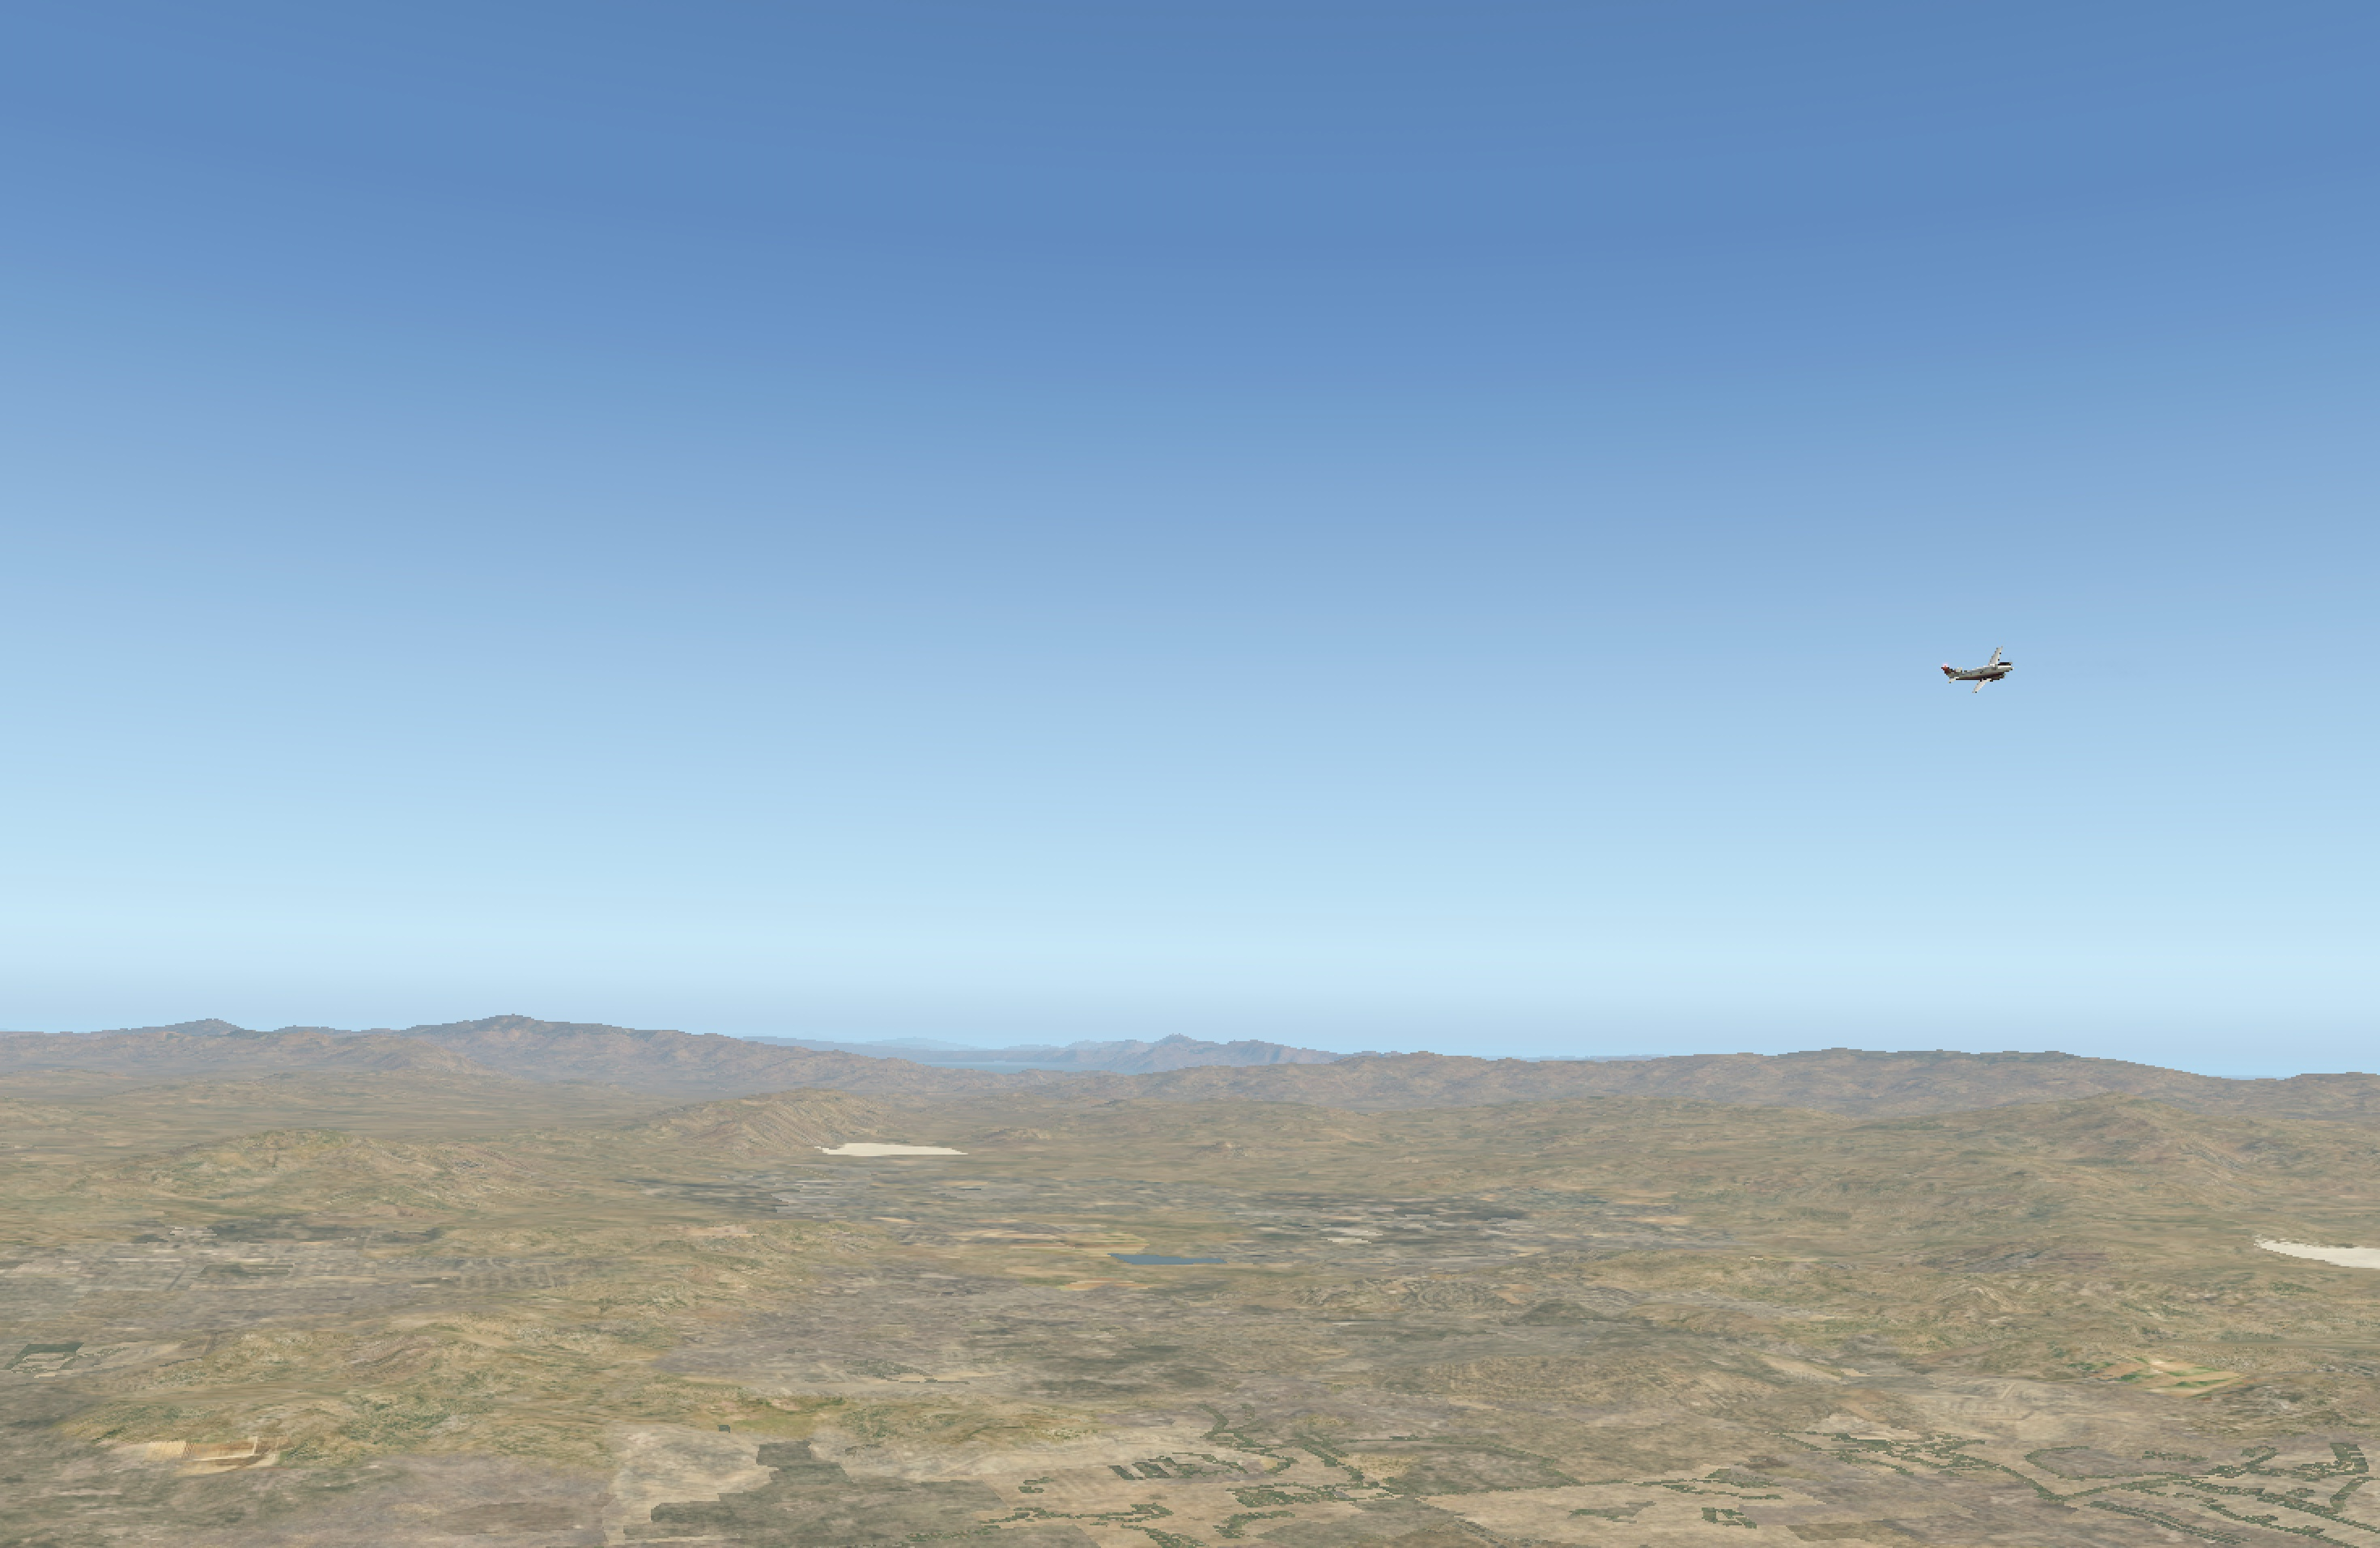aircraft: (1946, 658, 2038, 692)
